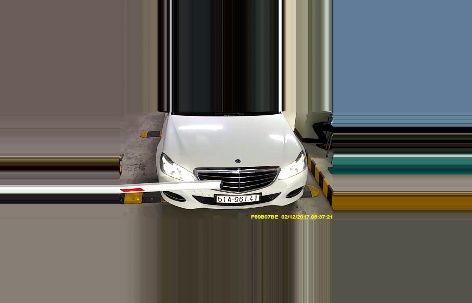plate: (215, 193, 265, 205)
